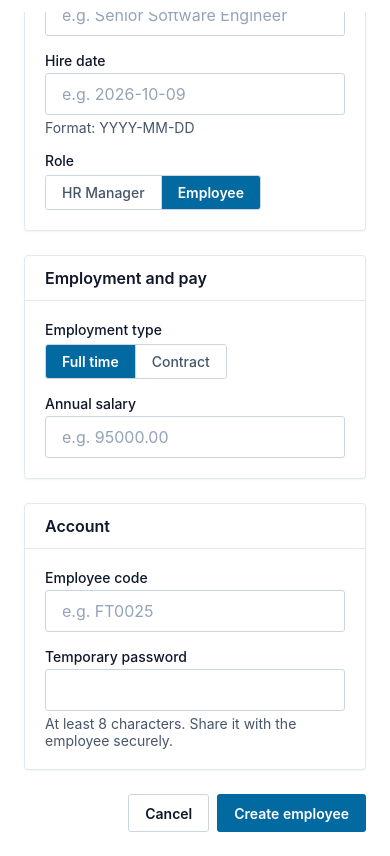
Test case: EmployeeForm when creating › shows field errors and does not submit an incomplete form
(page scrolled)
Click the button "Create employee" at (292, 813), box [217,794,366,832]
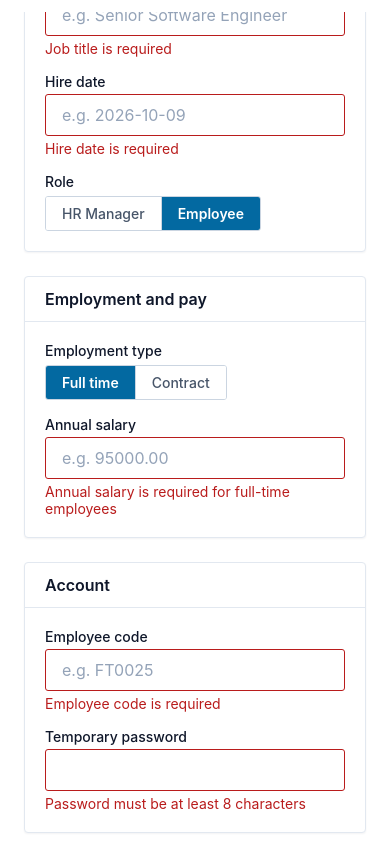
Expected: the text "Password must be at least 8 characters" is shown, [45,795,345,812]
